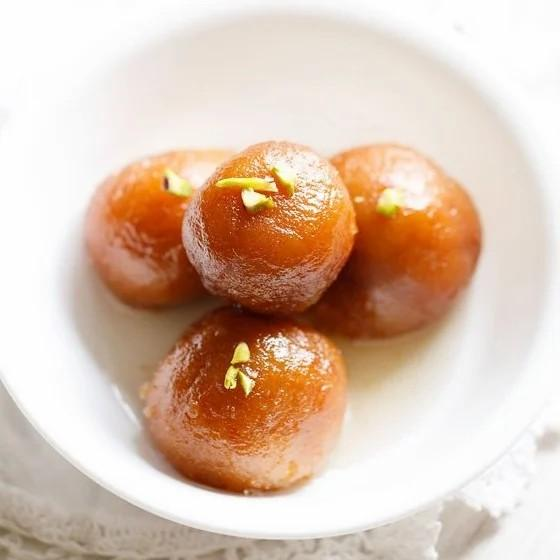GulabJamun: (142, 308, 347, 495), (303, 144, 481, 339), (185, 139, 356, 316), (88, 150, 238, 312)
